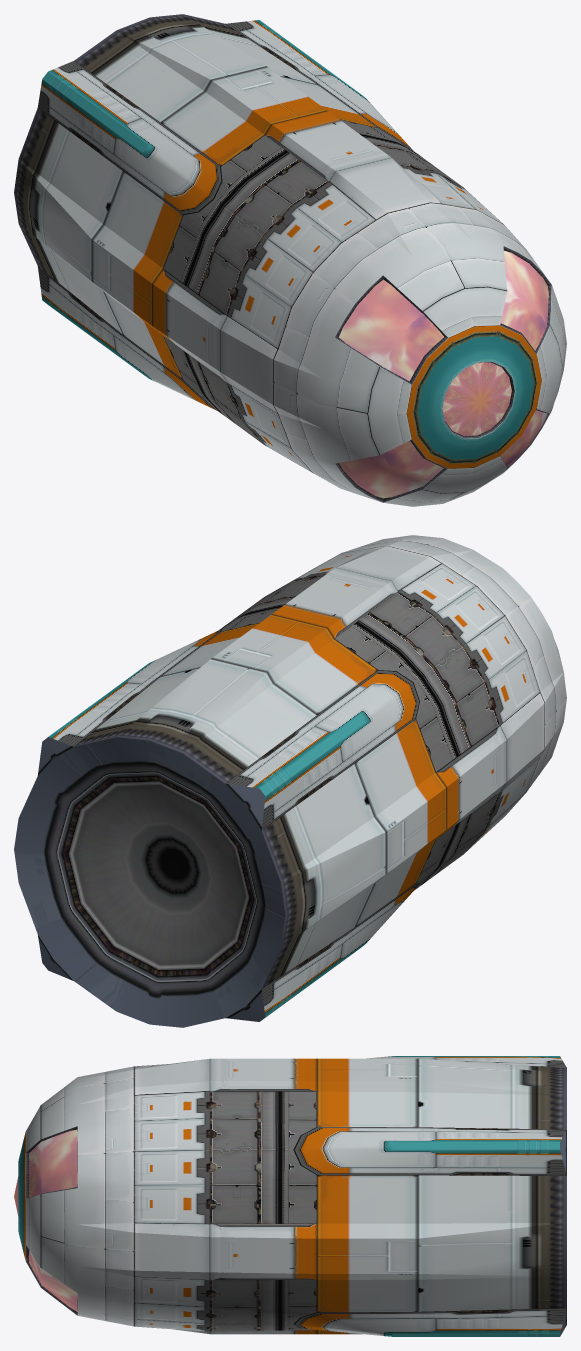
The model's file is stg200_obj_killer.obj.
The picture shows the model from 3 angles, top to bottom: view 1: azimuth 30°, elevation 25°; view 2: azimuth 150°, elevation 25°; view 3: azimuth 270°, elevation 25°; orthographic projection. The views are drawn at different scales.
Visible parts, largest first — view 1: polygon2, polygon0, polygon1, polygon6, polygon3; view 2: polygon0, polygon3, polygon2, polygon4, polygon1; view 3: polygon0, polygon2, polygon1, polygon3, polygon6.
Part boxes in pixels (x1=…): polygon2: x1=37, y1=20, x2=541, y2=472; polygon0: x1=14, y1=14, x2=551, y2=502; polygon1: x1=220, y1=157, x2=566, y2=506; polygon6: x1=339, y1=250, x2=548, y2=498; polygon3: x1=163, y1=119, x2=460, y2=443; polygon0: x1=74, y1=614, x2=446, y2=988; polygon3: x1=63, y1=575, x2=499, y2=975; polygon2: x1=48, y1=547, x2=539, y2=1019; polygon4: x1=14, y1=737, x2=285, y2=1027; polygon1: x1=336, y1=535, x2=566, y2=792; polygon0: x1=25, y1=1058, x2=566, y2=1334; polygon2: x1=18, y1=1056, x2=566, y2=1336; polygon1: x1=25, y1=1059, x2=210, y2=1333; polygon3: x1=210, y1=1091, x2=316, y2=1331; polygon6: x1=14, y1=1129, x2=77, y2=1311.
Size of the model in its own units: 153 by 151 by 299.
7 materials, 7 textured.
